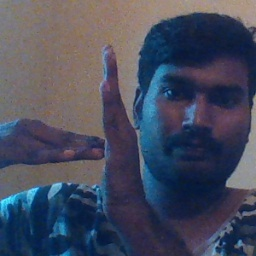Z: (17, 40, 146, 216)
